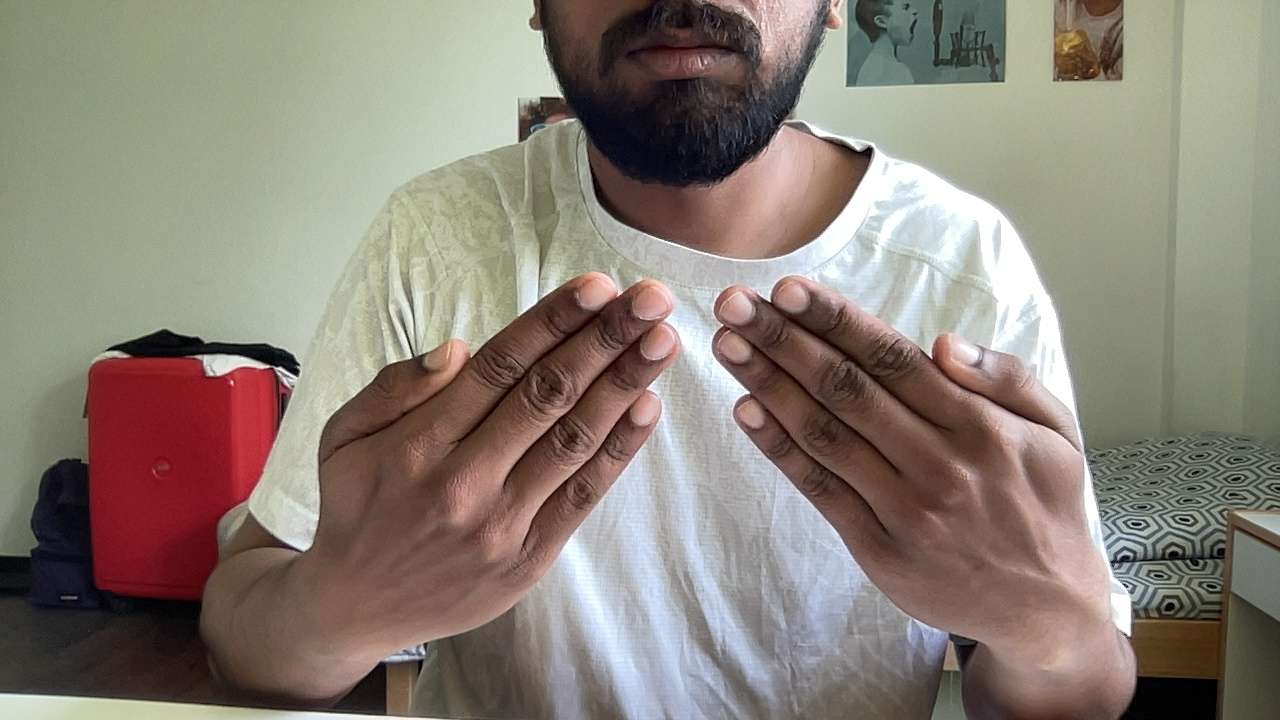ThankYou: (317, 272, 1082, 643)
